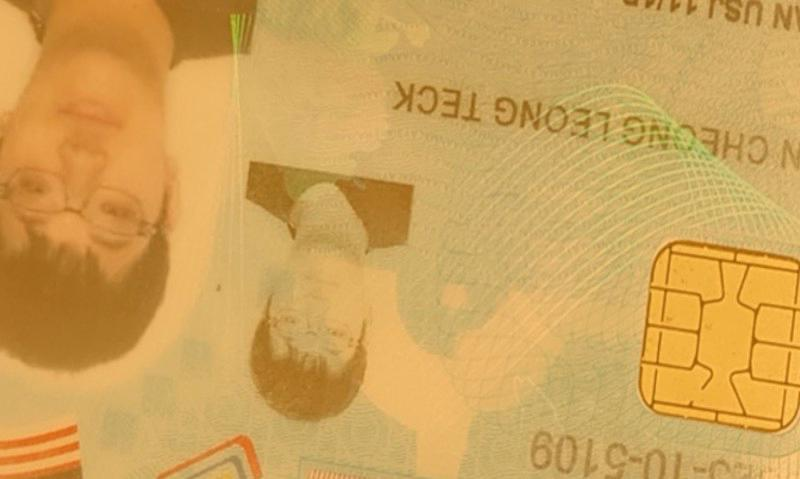hologram: (454, 151, 637, 339)
hologramB: (263, 5, 387, 158)
